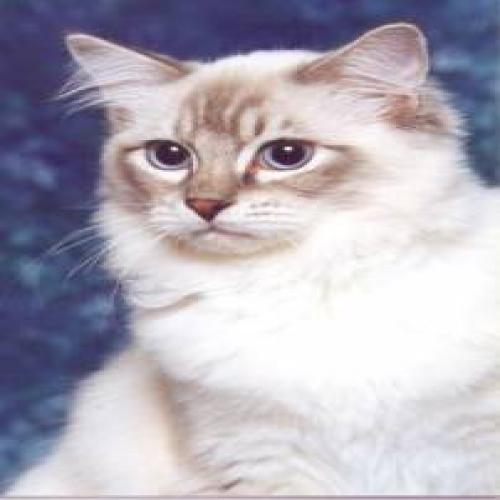ragdoll: (49, 13, 476, 271)
